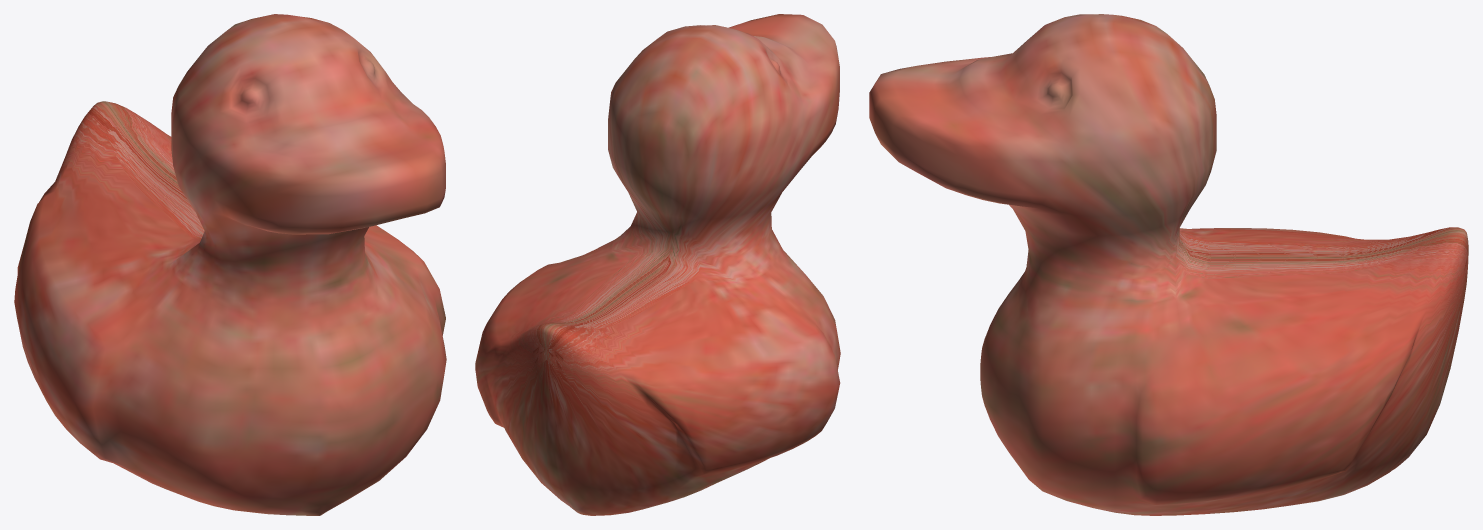
The model's file is Rubber duck.FBX.
3 renders of one model, left to right at view 1: azimuth 30°, elevation 25°; view 2: azimuth 150°, elevation 25°; view 3: azimuth 270°, elevation 25°, orthographic. The views are drawn at different scales.
Visible parts, largest first — view 1: Capsule001; view 2: Capsule001; view 3: Capsule001.
Part boxes in pixels (<box>): Capsule001: <box>14,14,446,515</box>; Capsule001: <box>475,14,840,515</box>; Capsule001: <box>869,14,1468,515</box>.
Bounding box in the file's own units: 57.74 × 72.25 × 82.86.
Materials: 1 (1 with a texture image).
